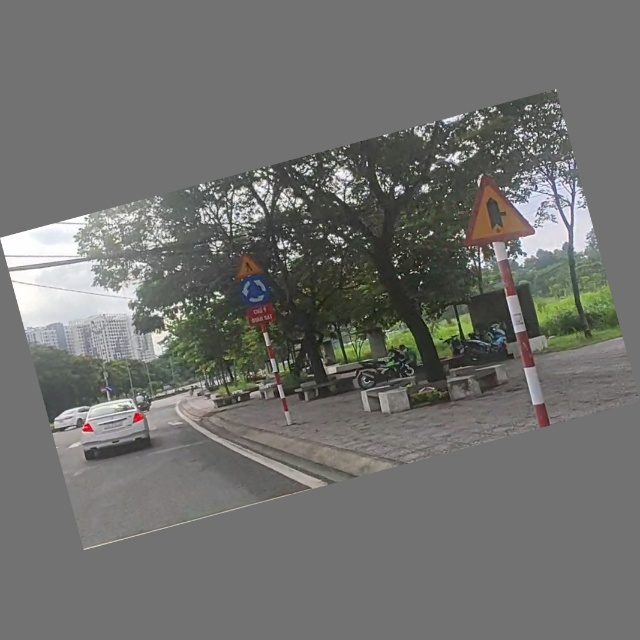P.102: (99, 385, 107, 395)
R.302a: (105, 384, 116, 394)
R.303: (236, 273, 276, 308)
W.207: (446, 163, 543, 261)
W.224: (229, 248, 267, 281)
